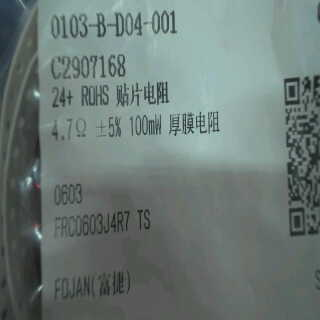4.7R: (48, 114, 91, 146)
